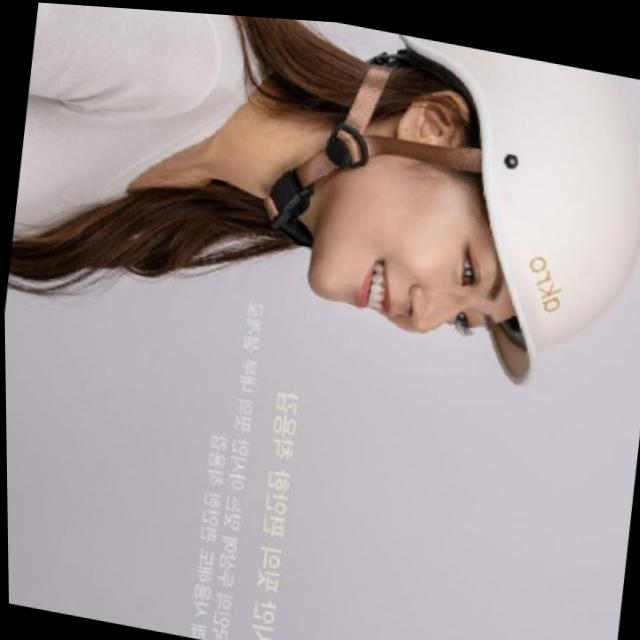WITH_HELMET: (358, 26, 640, 388)
